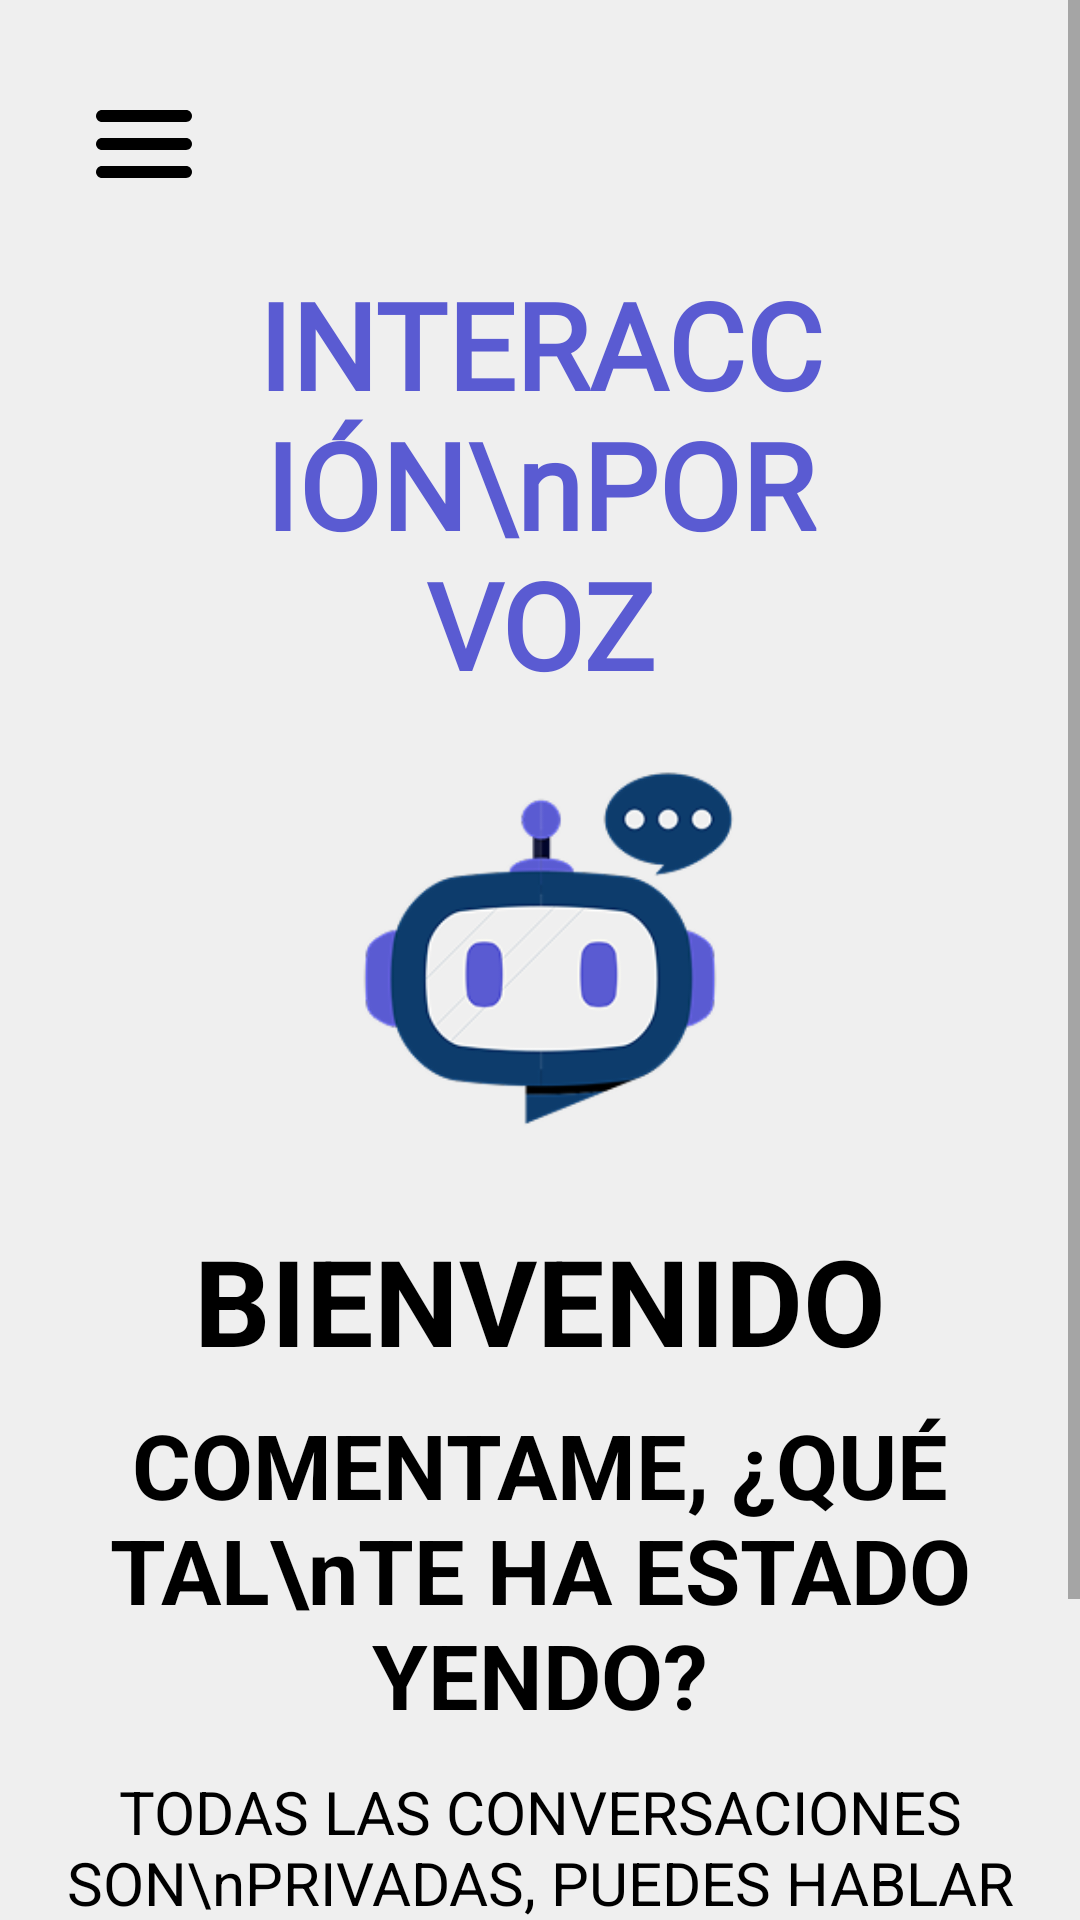

Where icons sit on this 1080px×1920px app screen, as [x1=x1, y1=y1, x2=x2, y2=y2]:
burger: [x1=96, y1=110, x2=192, y2=178]
